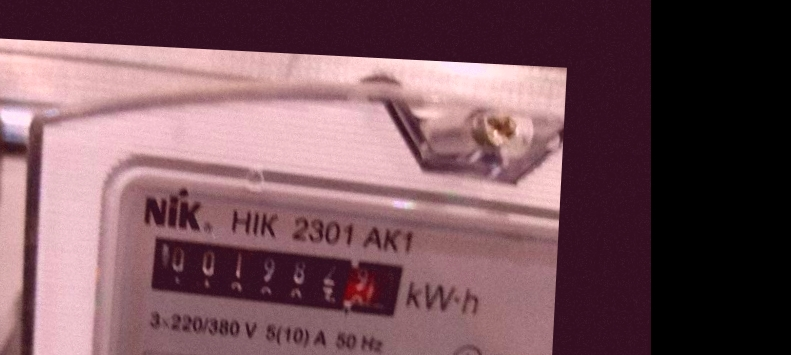0: (198, 248, 217, 278), (169, 243, 186, 273)
1: (230, 249, 244, 279)
2: (320, 257, 339, 287)
8: (290, 256, 307, 285)
9: (351, 265, 372, 294), (259, 254, 276, 284)
screen: (132, 221, 418, 332)
